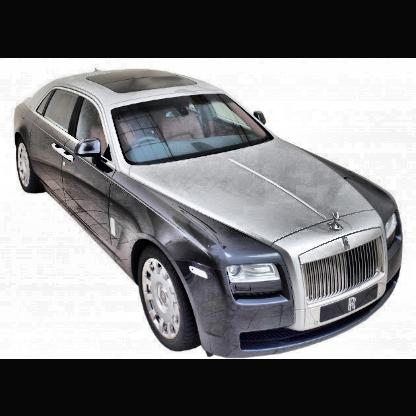Rolls-Royce Ghost Sedan 2012: (13, 66, 405, 359)
